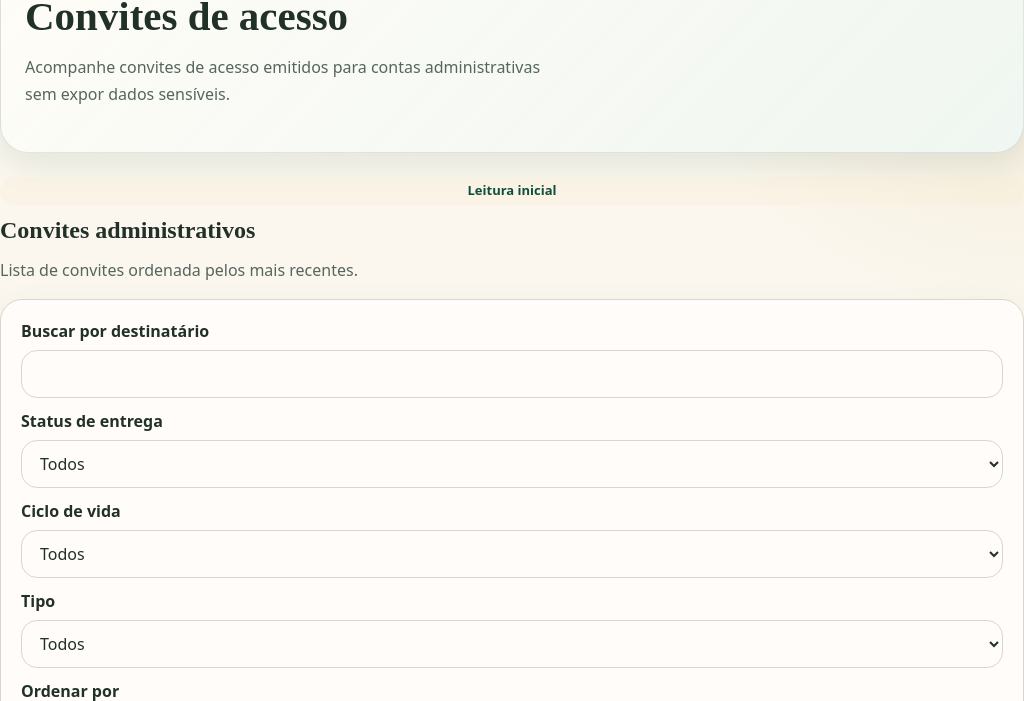
Test case: AdminAccountInvitationsPage › resposta antiga nao sobrescreve resposta recente
Type "Ana" into the field labelled "Buscar por destinatário" at (512, 374), box [21,350,1003,398]
(page scrolled)
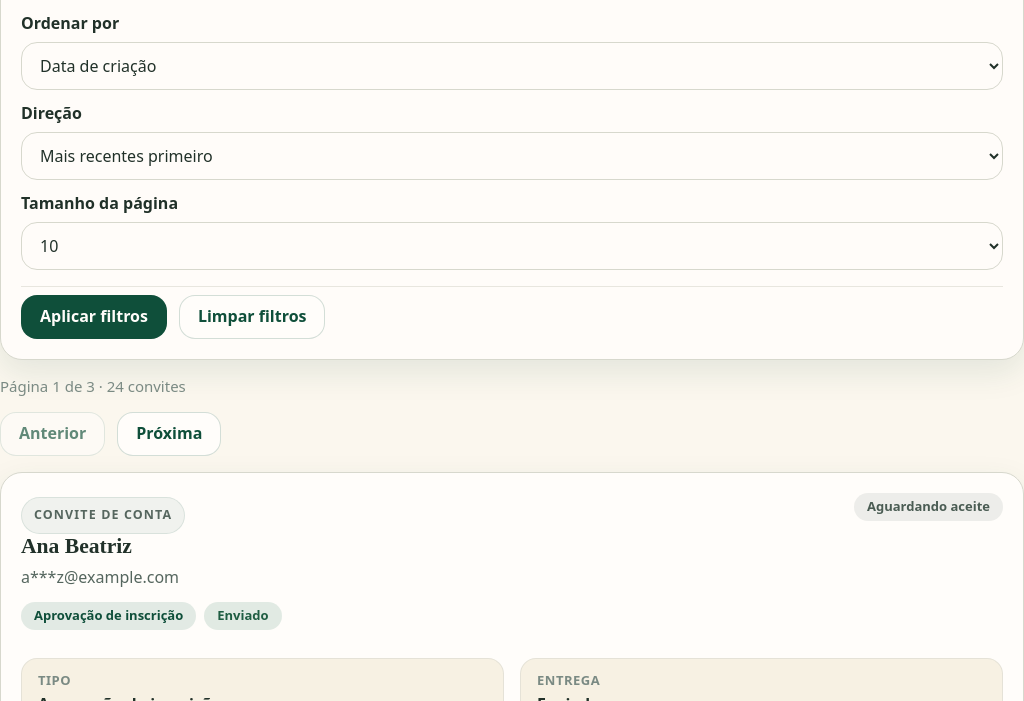
Click the button "Aplicar filtros" at (94, 317), box [21,295,167,339]
(page scrolled)
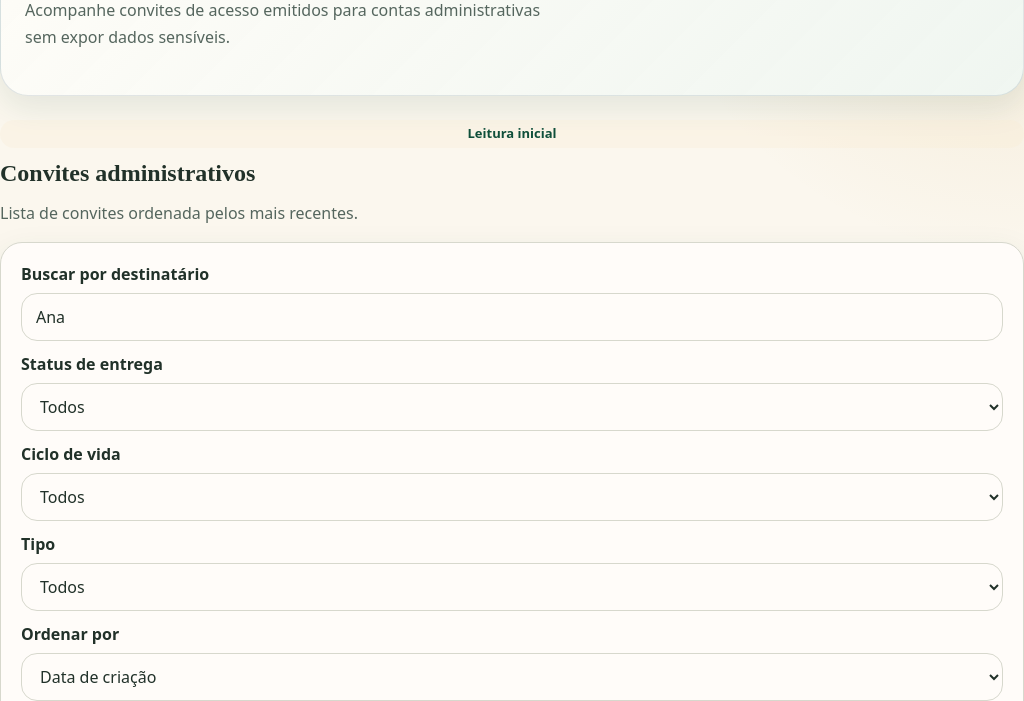
Replace the text in the field labelled "Buscar por destinatário" with "Bruno" at (512, 317), box [21,293,1003,341]
(page scrolled)
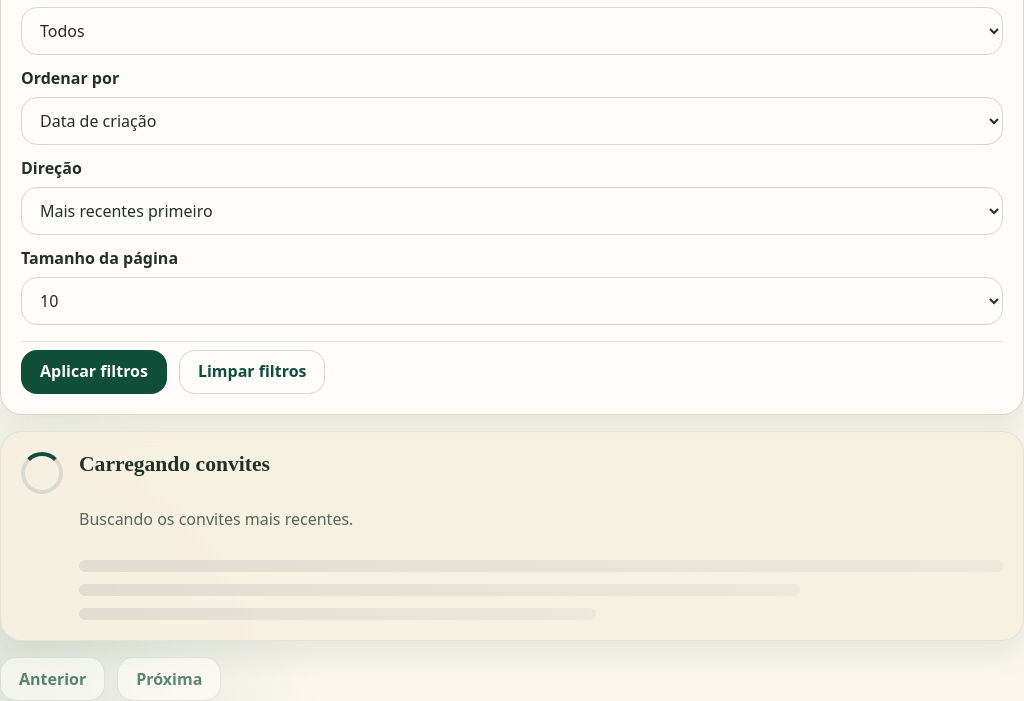
Click the button "Aplicar filtros" at (94, 372), box [21,350,167,394]
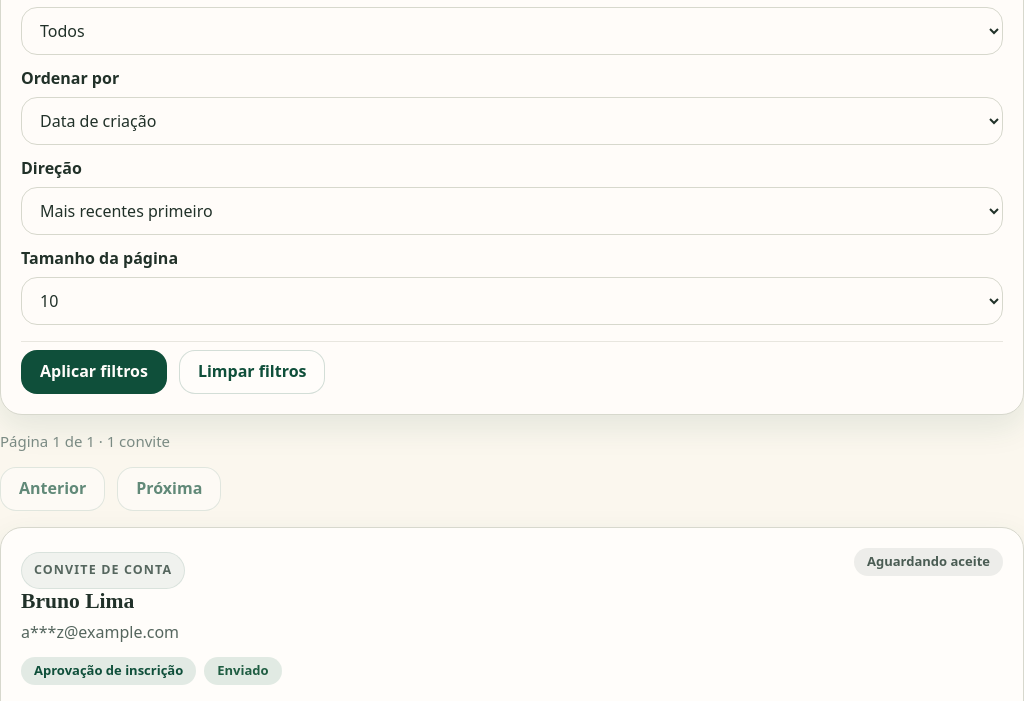
Now the heading "Bruno Lima" is shown, box [21,589,134,613]
